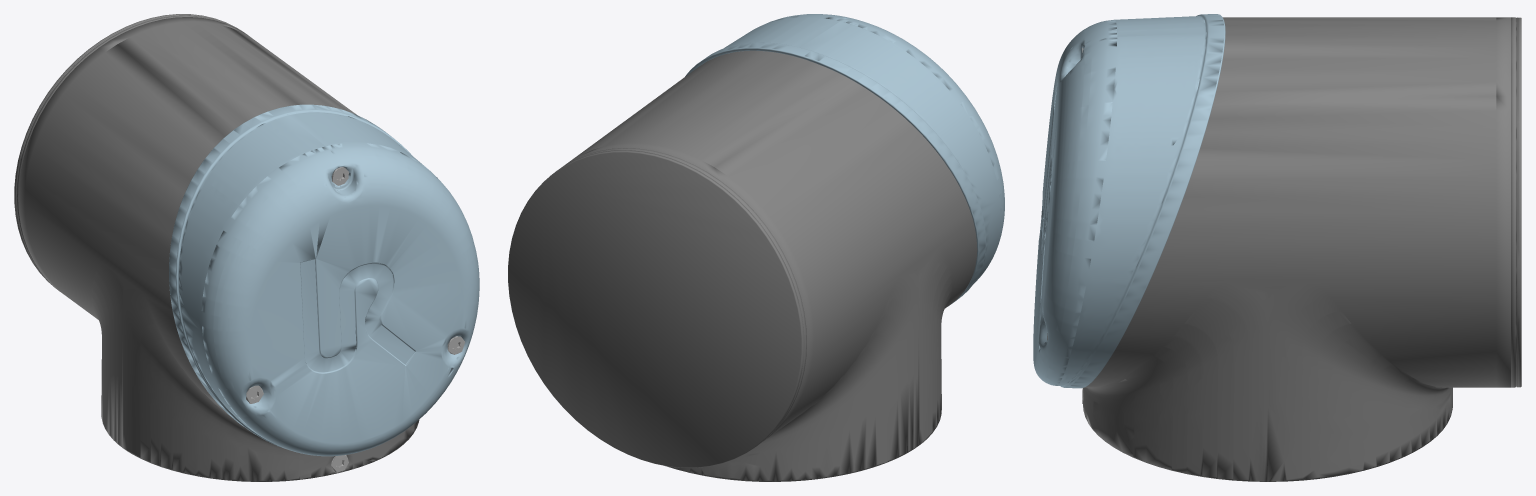
File: wrist2.dae
3 views of the same model, side by side, from view 1: azimuth 30°, elevation 25°; view 2: azimuth 150°, elevation 25°; view 3: azimuth 270°, elevation 25° (orthographic). The views are drawn at different scales.
Parts seen in each view (by area): view 1: node-shape1-name, node-shape0-name, node-shape2-name; view 2: node-shape0-name, node-shape1-name; view 3: node-shape0-name, node-shape1-name.
Boxes of the visible parts, x1,y1,x2,y2 form: node-shape1-name: [169, 104, 479, 456]; node-shape0-name: [14, 14, 419, 481]; node-shape2-name: [246, 167, 464, 472]; node-shape0-name: [508, 50, 977, 481]; node-shape1-name: [685, 14, 1004, 306]; node-shape0-name: [1083, 17, 1521, 481]; node-shape1-name: [1033, 14, 1225, 388].
Size of the model in its own units: 0.091 by 0.1188 by 0.0999.
